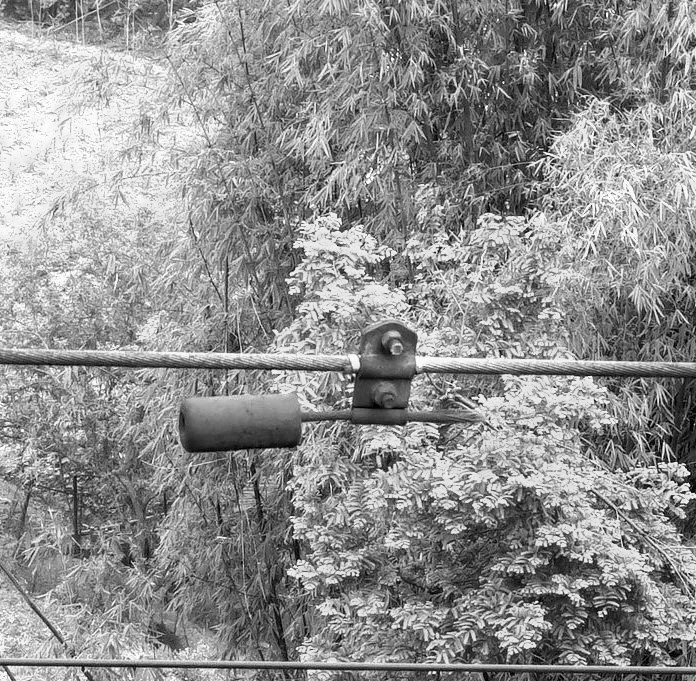Damage of shockproof hammer: (161, 308, 497, 469)
